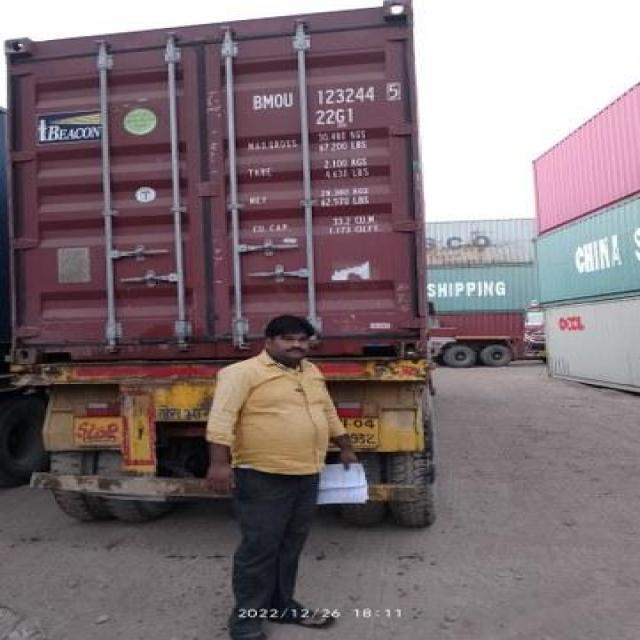ISO: (316, 109, 356, 127)
container_number: (258, 82, 402, 105)
